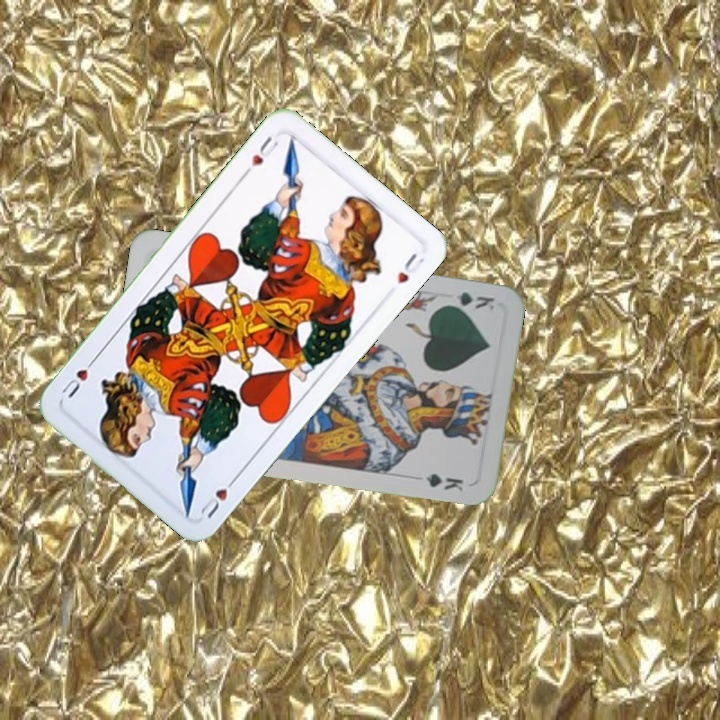GK: (440, 287, 497, 313)
HU: (195, 472, 241, 521), (239, 132, 282, 178)
